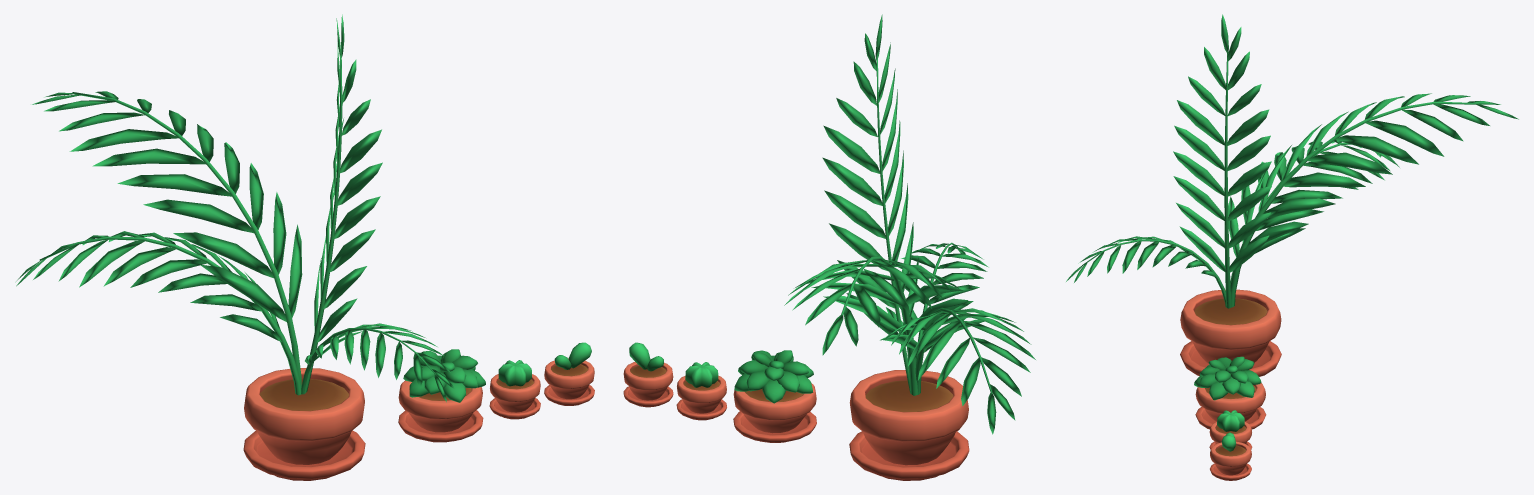
The model's file is Plant.FBX.
3 renders of one model, left to right at view 1: azimuth 30°, elevation 25°; view 2: azimuth 150°, elevation 25°; view 3: azimuth 270°, elevation 25°, orthographic. The views are drawn at different scales.
Parts seen in each view (by area): view 1: plant_01, plant_02, plant_03, plant_04; view 2: plant_01, plant_02, plant_04, plant_03; view 3: plant_01, plant_02, plant_04, plant_03.
Part boxes in pixels (bbox=[...]): plant_01: bbox=[15, 14, 454, 480]; plant_02: bbox=[398, 349, 485, 442]; plant_03: bbox=[489, 360, 540, 419]; plant_04: bbox=[544, 342, 594, 405]; plant_01: bbox=[784, 14, 1035, 480]; plant_02: bbox=[733, 350, 816, 442]; plant_04: bbox=[623, 342, 673, 407]; plant_03: bbox=[676, 362, 726, 420]; plant_01: bbox=[1066, 14, 1518, 376]; plant_02: bbox=[1194, 356, 1266, 429]; plant_04: bbox=[1210, 432, 1251, 480]; plant_03: bbox=[1209, 410, 1252, 449].
Size of the model in its own units: 260 by 228 by 256.
